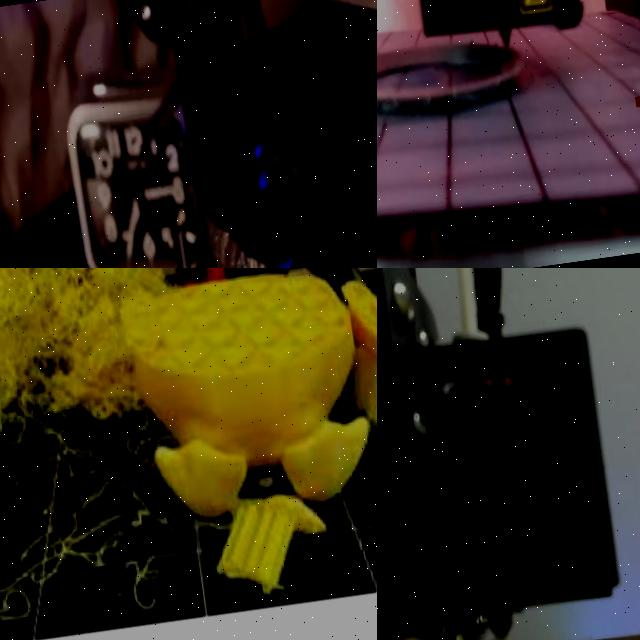spaghetti: (0, 268, 162, 457), (382, 611, 525, 640)
